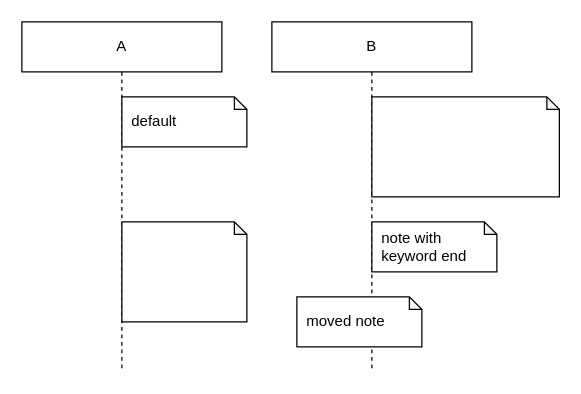
This 581x394 diagram has some shape labels left out. Here are the shapes that lost their labels. From the top down, the box of each, then its label:
(371, 96, 559, 197): a larger note with multiple lines in it
(121, 221, 247, 322): note follows vertical offset
